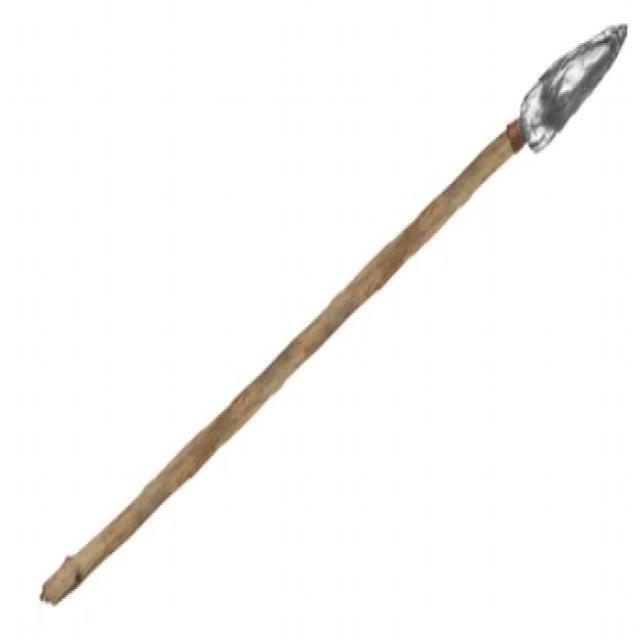spear: (29, 11, 632, 612)
